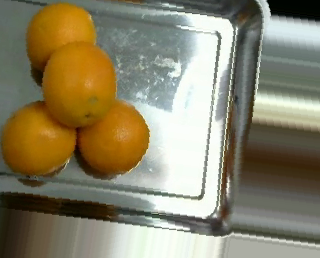Orange: (41, 41, 117, 127), (3, 100, 77, 177), (78, 101, 150, 174), (26, 2, 98, 74)
